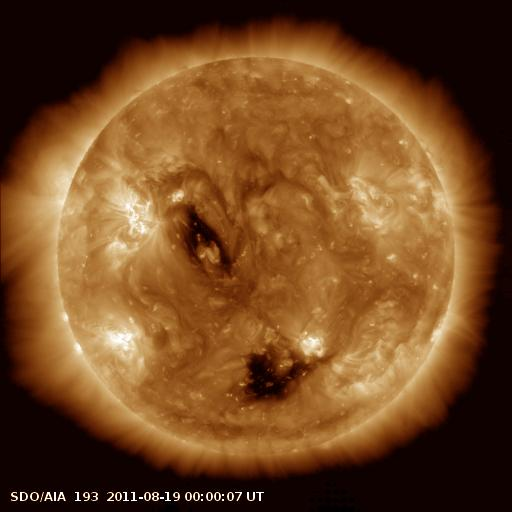coronal_hole: (230, 359, 331, 403), (181, 206, 238, 277)
